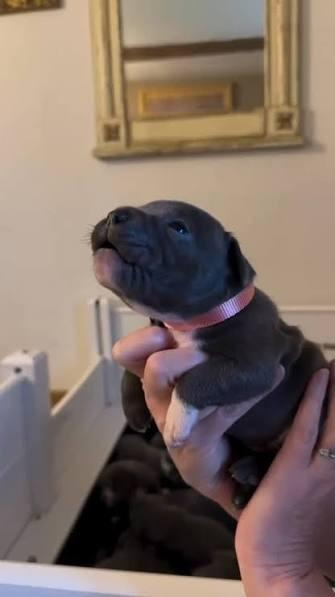puppy-dog: (89, 199, 330, 509), (112, 488, 237, 570), (89, 432, 182, 526)
